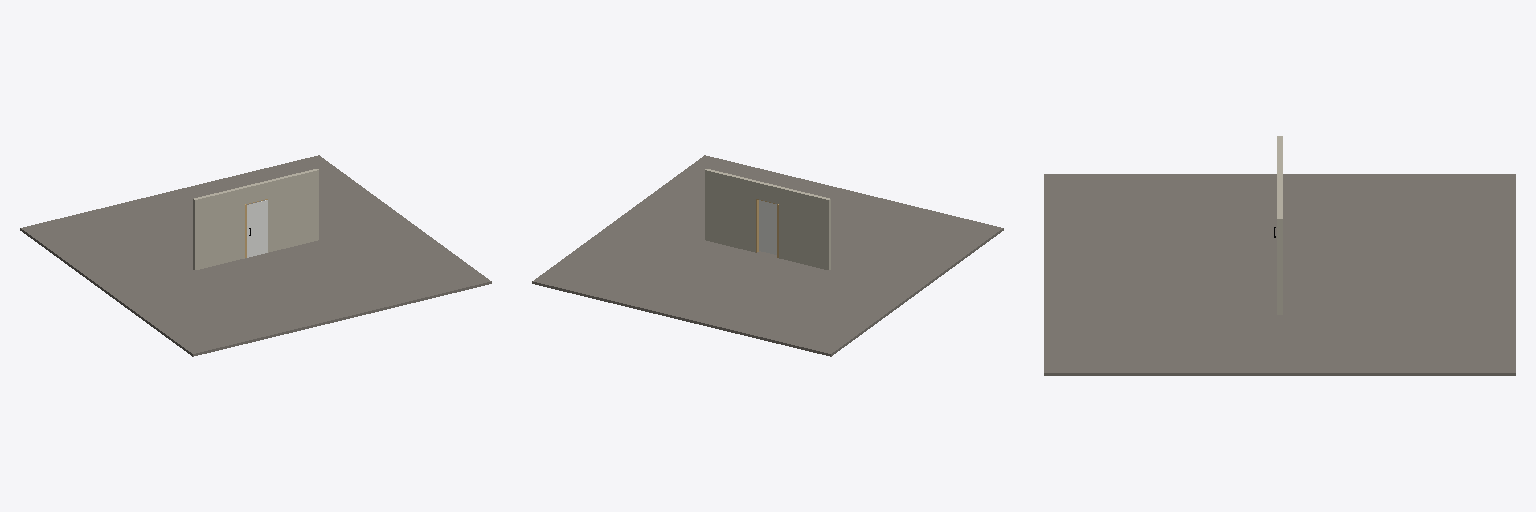
URDF robot description (db0867_sliding_single_minimal):
<?xml version="1.0" ?>
<robot xmlns:doorbench="https://github.com/adamraudonis/DoorBench/schema/urdf-ext" name="db0867_sliding_single_minimal">
  <link name="world_env">
    <visual name="floor_vis">
      <origin xyz="0 0 -0.05" rpy="0 0 0"/>
      <geometry>
        <box size="12 12 0.1"/>
      </geometry>
      <material name="mat_floor"/>
    </visual>
    <collision name="floor_col">
      <origin xyz="0 0 -0.05" rpy="0 0 0"/>
      <geometry>
        <box size="12 12 0.1"/>
      </geometry>
    </collision>
    <visual name="wall_left_vis">
      <origin xyz="-1.49775 0 1.35" rpy="0 0 0"/>
      <geometry>
        <box size="2.0045 0.145 2.7"/>
      </geometry>
      <material name="mat_wall"/>
    </visual>
    <collision name="wall_left_col">
      <origin xyz="-1.49775 0 1.35" rpy="0 0 0"/>
      <geometry>
        <box size="2.0045 0.145 2.7"/>
      </geometry>
    </collision>
    <visual name="wall_right_vis">
      <origin xyz="1.46775 0 1.35" rpy="0 0 0"/>
      <geometry>
        <box size="2.0645 0.145 2.7"/>
      </geometry>
      <material name="mat_wall"/>
    </visual>
    <collision name="wall_right_col">
      <origin xyz="1.46775 0 1.35" rpy="0 0 0"/>
      <geometry>
        <box size="2.0645 0.145 2.7"/>
      </geometry>
    </collision>
    <visual name="wall_header_vis">
      <origin xyz="-0.03 0 2.3855" rpy="0 0 0"/>
      <geometry>
        <box size="0.931 0.145 0.629"/>
      </geometry>
      <material name="mat_wall"/>
    </visual>
    <collision name="wall_header_col">
      <origin xyz="-0.03 0 2.3855" rpy="0 0 0"/>
      <geometry>
        <box size="0.931 0.145 0.629"/>
      </geometry>
    </collision>
    <visual name="jamb_r_vis">
      <origin xyz="0.426 0 1.026" rpy="0 0 0"/>
      <geometry>
        <box size="0.019 0.145 2.052"/>
      </geometry>
      <material name="mat_frame"/>
    </visual>
    <collision name="jamb_r_col">
      <origin xyz="0.426 0 1.026" rpy="0 0 0"/>
      <geometry>
        <box size="0.019 0.145 2.052"/>
      </geometry>
    </collision>
    <visual name="jamb_head_vis">
      <origin xyz="0 0 2.0615" rpy="0 0 0"/>
      <geometry>
        <box size="0.871 0.145 0.019"/>
      </geometry>
      <material name="mat_frame"/>
    </visual>
    <collision name="jamb_head_col">
      <origin xyz="0 0 2.0615" rpy="0 0 0"/>
      <geometry>
        <box size="0.871 0.145 0.019"/>
      </geometry>
    </collision>
    <visual name="jamb_latch_0_vis">
      <origin xyz="-0.456 0 1.026" rpy="0 0 0"/>
      <geometry>
        <box size="0.079 0.145 2.052"/>
      </geometry>
      <material name="mat_frame"/>
    </visual>
    <collision name="jamb_latch_0_col">
      <origin xyz="-0.456 0 1.026" rpy="0 0 0"/>
      <geometry>
        <box size="0.079 0.145 2.052"/>
      </geometry>
    </collision>
  </link>
  <link name="leaf">
    <inertial>
      <origin xyz="-0.001997 -0.000253 1.027823" rpy="0 0 0"/>
      <mass value="78.509954"/>
      <inertia ixx="26.850366957" ixy="-0.006253066" ixz="-0.004362789" iyy="31.195700633" iyz="-0.000553194" izz="4.347564161"/>
    </inertial>
    <visual name="leaf_slab_vis">
      <origin xyz="0 0 1.028" rpy="0 0 0"/>
      <geometry>
        <box size="0.813 0.006 2.032"/>
      </geometry>
      <material name="mat_leaf"/>
    </visual>
    <collision name="leaf_slab_col">
      <origin xyz="0 0 1.028" rpy="0 0 0"/>
      <geometry>
        <box size="0.813 0.006 2.032"/>
      </geometry>
    </collision>
    <visual name="leaf_pull_n_vis">
      <origin xyz="-0.3165 -0.003 1" rpy="-1.570796 0 3.141593"/>
      <geometry>
        <mesh filename="../../hardware/pull_2b47e55ff8.obj"/>
      </geometry>
      <material name="mat_op_black_matte_metal"/>
    </visual>
    <collision name="leaf_pull_col_n_col">
      <origin xyz="-0.3165 -0.048 1" rpy="0 0 0"/>
      <geometry>
        <cylinder radius="0.006" length="0.26"/>
      </geometry>
    </collision>
  </link>
  <joint name="leaf_slide" type="prismatic">
    <origin xyz="0 -0.0955 0" rpy="0 0 0"/>
    <parent link="world_env"/>
    <child link="leaf"/>
    <axis xyz="1 0 0"/>
    <limit lower="0" upper="0.813" effort="5000" velocity="10"/>
    <dynamics damping="5.925498" friction="15.398393"/>
  </joint>
  <material name="mat_floor">
    <color rgba="0.55 0.53 0.5 1"/>
  </material>
  <material name="mat_frame">
    <color rgba="0.82 0.7 0.5 1"/>
  </material>
  <material name="mat_leaf">
    <color rgba="0.93 0.93 0.91 1"/>
  </material>
  <material name="mat_op_black_matte_metal">
    <color rgba="0.05 0.05 0.05 1"/>
  </material>
  <material name="mat_wall">
    <color rgba="0.78 0.76 0.7 1"/>
  </material>
</robot>

--- Facts derived from the render (not from the file) ---
Views: 3 orthographic renders of the robot side by side, from view 1: azimuth 30°, elevation 25°; view 2: azimuth 150°, elevation 25°; view 3: azimuth 270°, elevation 25°.
Robot: db0867_sliding_single_minimal — 2 links, 1 joints (1 prismatic); root link world_env; default pose: every joint at zero.
Visible links, largest first — view 1: world_env, leaf; view 2: world_env, leaf; view 3: world_env.
Link boxes in pixels (bbox=[...]): world_env: bbox=[20, 155, 491, 356]; leaf: bbox=[247, 200, 267, 257]; world_env: bbox=[532, 155, 1003, 356]; leaf: bbox=[759, 200, 776, 254]; world_env: bbox=[1044, 136, 1515, 375].
Bounding box of the posed robot: 12 × 12 × 2.8 m (x, y, z).
Meshes: 1 distinct files referenced, 1 mesh visuals loaded (1 OBJ).
